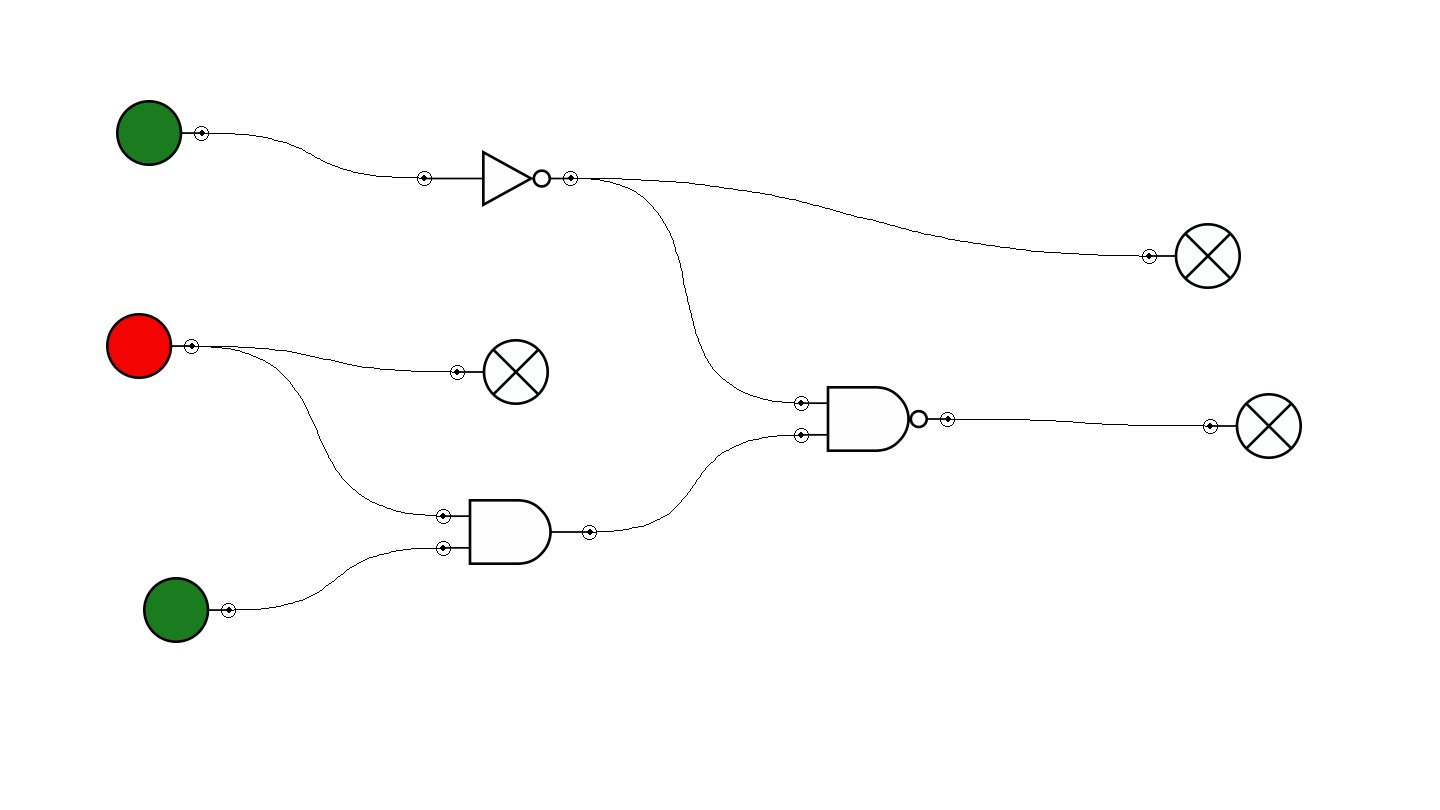and: (436, 499, 597, 565)
bulb: (450, 339, 549, 405), (1142, 223, 1241, 289), (1203, 393, 1302, 459)
nand: (794, 386, 955, 452)
not: (417, 150, 578, 207)
switch_False: (106, 313, 199, 379)
switch_True: (116, 100, 209, 166), (143, 577, 236, 643)
